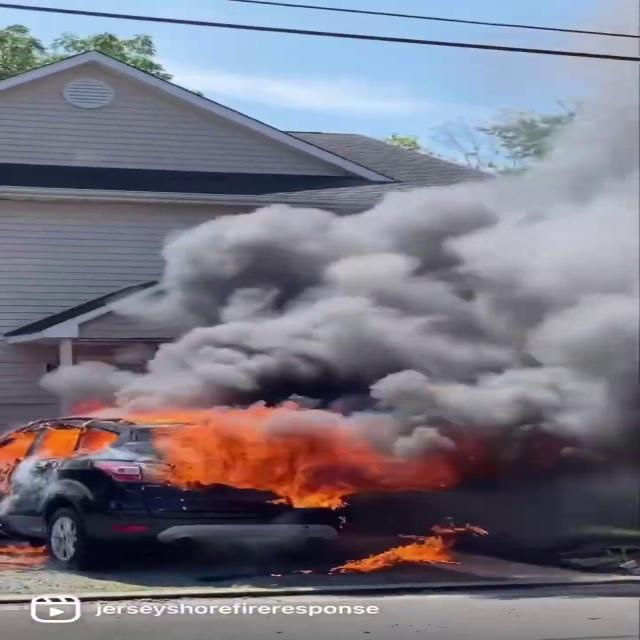Fire: (2, 404, 410, 507), (336, 530, 471, 574)
Smoke: (96, 144, 639, 412)
